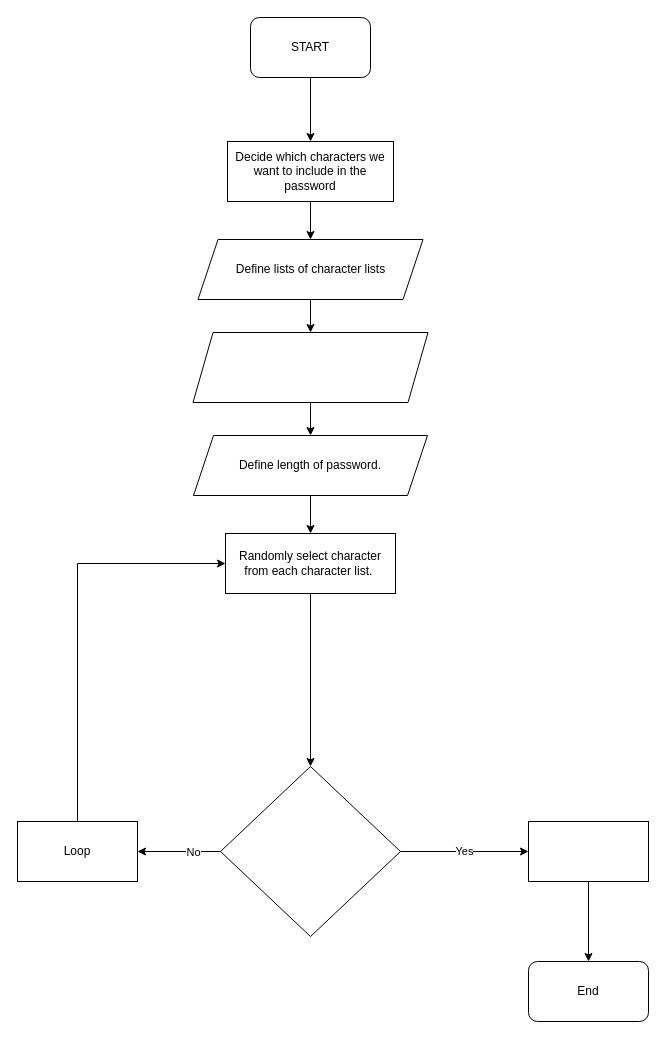
The diagram is 666 pixels wide and 1039 high, and some of its shapes have lost their labels. The shapes that lost their labels are listed below. From the top down, each one's centre as x and y in pixels, then its label:
(x=310, y=367): Define new empty list 'password' to populate
(x=310, y=851): Has password length been reached?
(x=588, y=851): Accept and Print
